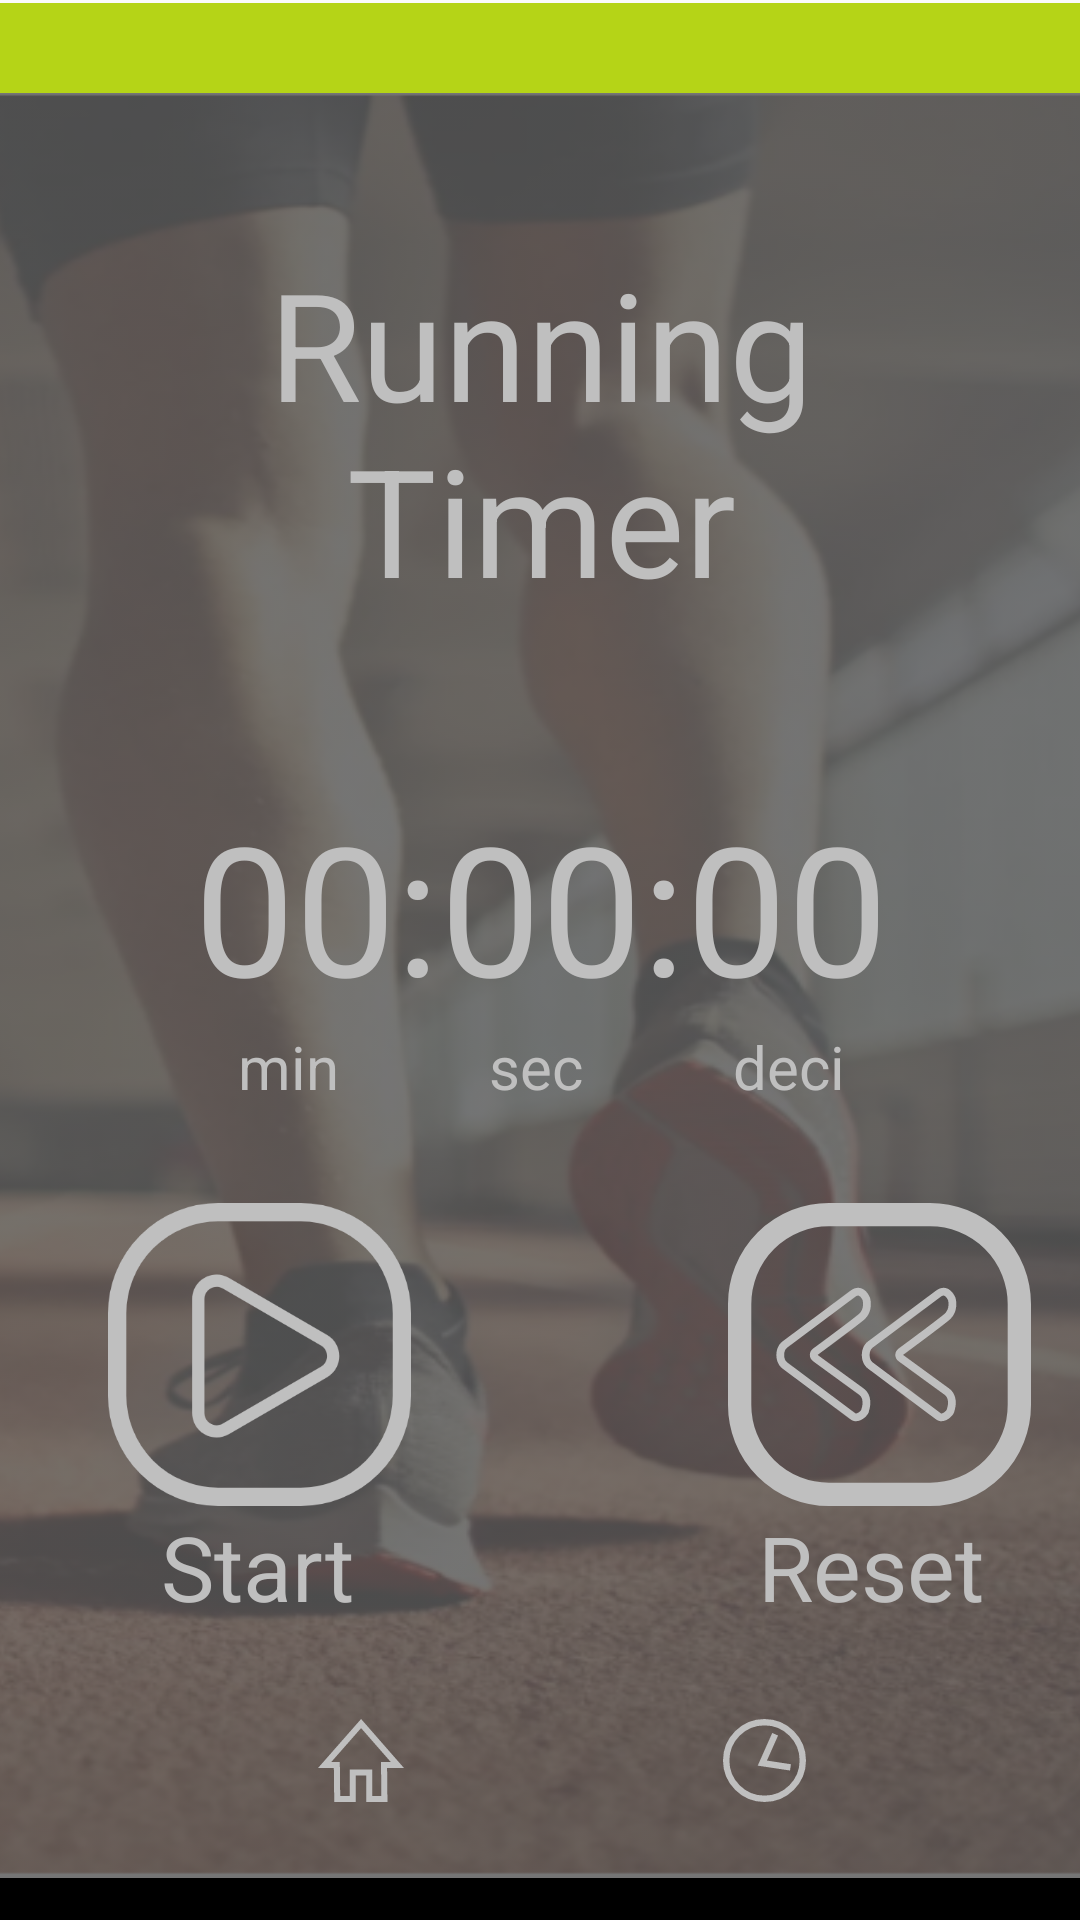

Icons on this 1080w x 1920h Android screen, each with the point to tap as (x=x, y=y):
home: (x=361, y=1760)
timer: (x=764, y=1760)
